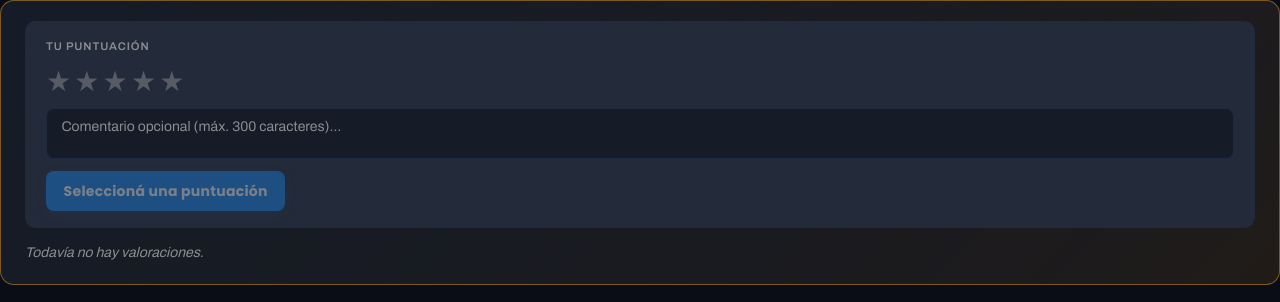
Test: <TableRatings> › muestra el form si canRate=true y permite seleccionar estrellas
The width and height of the screenshot is (1280, 302).
Expected: the text "Tu puntuación" is shown, x1=46 y1=40 x2=150 y2=52
What coordinates should you click on to do the following:
click the button named "4 estrellas"
I would click on:
 (143, 82)
Its box is x1=131 y1=68 x2=156 y2=96.
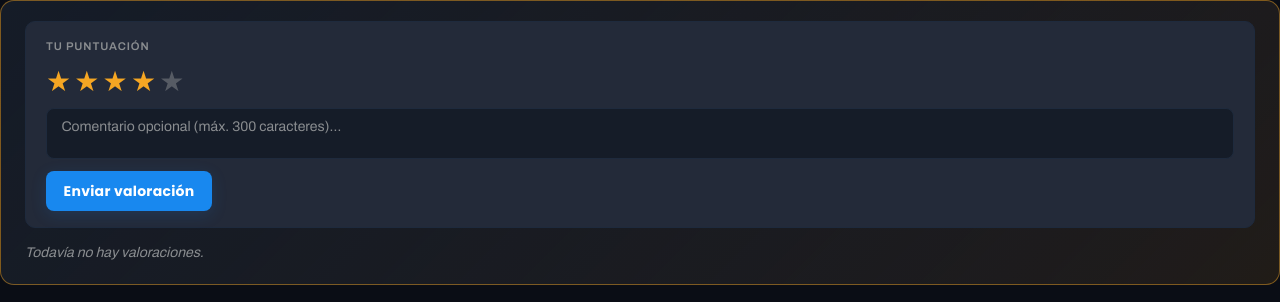
Expected: the button "Enviar valoración" is enabled, x1=46 y1=171 x2=212 y2=211
